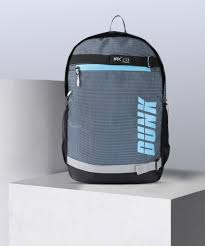backpack: (61, 14, 170, 184)
